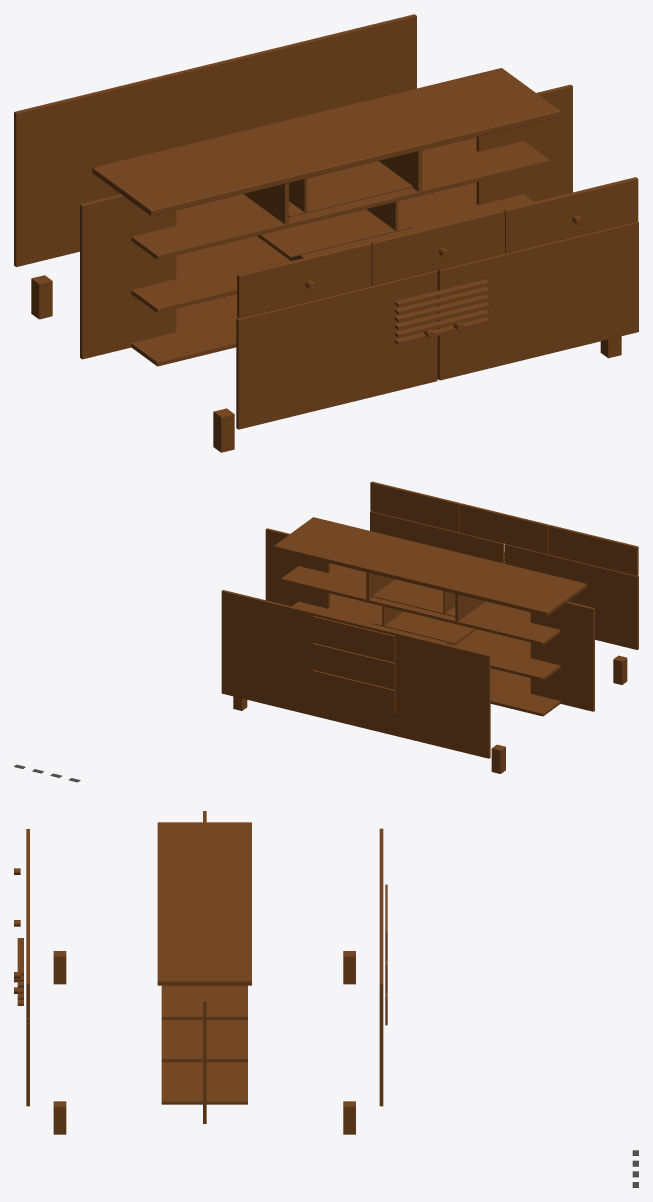
The model's file is Oakley_sideboard.obj.
The picture shows the model from 3 angles, top to bottom: view 1: azimuth 30°, elevation 25°; view 2: azimuth 150°, elevation 25°; view 3: azimuth 270°, elevation 25°; orthographic projection. The views are drawn at different scales.
Visible parts, largest first — view 1: carcass.back, top, door_1, door_2, carcass.side_1, carcass.divider, shelf.fixed, drawer.front_1, carcass.side_2, drawer.front_3, drawer.front_2, carcass.bottom (+11 smaller); view 2: carcass.back, top, door_1, carcass.side_1, carcass.divider, shelf.fixed, door_2, drawer.front_1, carcass.side_2, drawer.front_3, drawer.front_2, drawer.back_1 (+7 smaller); view 3: top, carcass.bottom, shelf.fixed, carcass.divider, carcass.back, carcass.side_2.
Boxes of the visible parts, bbox=[...] form: carcass.back: bbox=[14, 14, 416, 266]; top: bbox=[92, 68, 560, 216]; door_1: bbox=[236, 270, 437, 429]; door_2: bbox=[437, 221, 638, 380]; carcass.side_1: bbox=[80, 194, 176, 359]; carcass.divider: bbox=[131, 137, 549, 259]; shelf.fixed: bbox=[131, 182, 533, 313]; drawer.front_1: bbox=[237, 242, 371, 318]; carcass.side_2: bbox=[476, 84, 572, 204]; drawer.front_3: bbox=[503, 177, 638, 253]; drawer.front_2: bbox=[370, 209, 504, 285]; carcass.bottom: bbox=[131, 270, 437, 366]; carcass.back: bbox=[221, 590, 490, 758]; top: bbox=[274, 517, 586, 616]; door_1: bbox=[504, 544, 638, 649]; carcass.side_1: bbox=[530, 601, 594, 711]; carcass.divider: bbox=[281, 563, 560, 645]; shelf.fixed: bbox=[292, 593, 560, 680]; door_2: bbox=[370, 511, 504, 563]; drawer.front_1: bbox=[548, 525, 638, 575]; carcass.side_2: bbox=[265, 528, 329, 608]; drawer.front_3: bbox=[370, 481, 460, 532]; drawer.front_2: bbox=[459, 503, 549, 554]; drawer.back_1: bbox=[312, 670, 395, 714]; top: bbox=[157, 822, 251, 985]; carcass.bottom: bbox=[161, 1062, 247, 1104]; shelf.fixed: bbox=[161, 1020, 247, 1062]; carcass.divider: bbox=[161, 985, 247, 1019]; carcass.back: bbox=[379, 828, 383, 1106]; carcass.side_2: bbox=[203, 985, 206, 1123].
Size of the model in its own units: 2.62 by 0.82 by 2.99.
